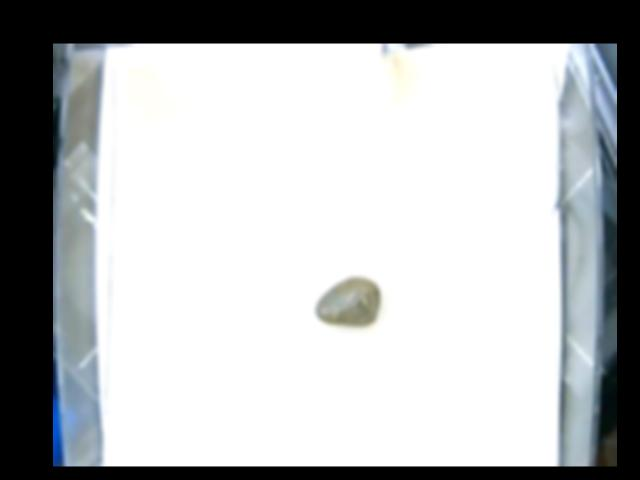Pebble: (315, 276, 378, 325)
